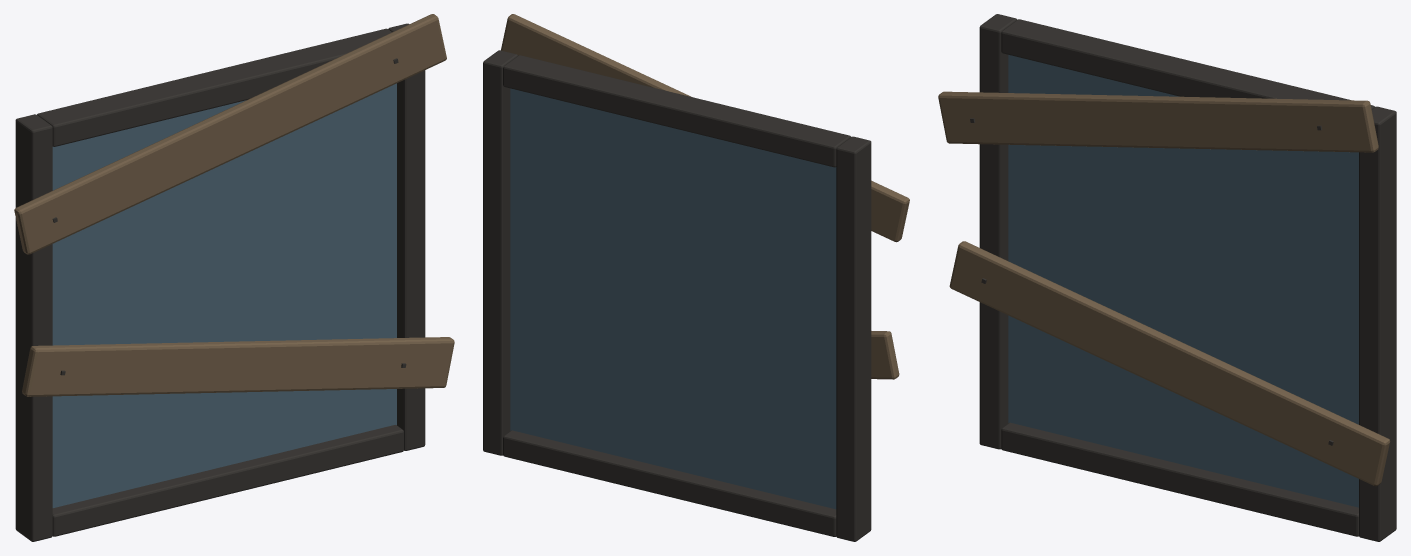
The model's file is MS_AT_12_BoardedCross.glb.
3 renders of one model, left to right at view 1: azimuth 30°, elevation 25°; view 2: azimuth 150°, elevation 25°; view 3: azimuth 330°, elevation 25°, orthographic. The views are drawn at different scales.
Parts seen in each view (by area): view 1: Glass, Timber.001, Timber, WindowFrame, WindowFrame.003, WindowFrame.002, WindowFrame.001; view 2: Glass, WindowFrame, WindowFrame.003, WindowFrame.001, WindowFrame.002, Timber.001, Timber; view 3: Glass, Timber, Timber.001, WindowFrame.001, WindowFrame.002, WindowFrame.003, WindowFrame.
Part boxes in pixels (x1,y1,x2,y2): Glass: [52, 83, 396, 507]; Timber.001: [14, 14, 446, 254]; Timber: [22, 337, 454, 396]; WindowFrame: [15, 114, 52, 541]; WindowFrame.003: [37, 28, 391, 146]; WindowFrame.002: [52, 425, 403, 536]; WindowFrame.001: [388, 23, 425, 450]; Glass: [510, 88, 836, 509]; WindowFrame: [836, 136, 871, 541]; WindowFrame.003: [503, 55, 850, 167]; WindowFrame.001: [483, 50, 517, 455]; WindowFrame.002: [503, 430, 836, 536]; Timber.001: [501, 14, 909, 242]; Timber: [871, 331, 899, 379]; Glass: [1008, 55, 1358, 507]; Timber: [949, 241, 1390, 486]; Timber.001: [938, 91, 1378, 152]; WindowFrame.001: [1359, 106, 1396, 541]; WindowFrame.002: [1001, 422, 1358, 536]; WindowFrame.003: [1001, 19, 1374, 108]; WindowFrame: [979, 14, 1016, 449].
Bounding box in the file's own units: 1.45 × 1.39 × 0.186.
